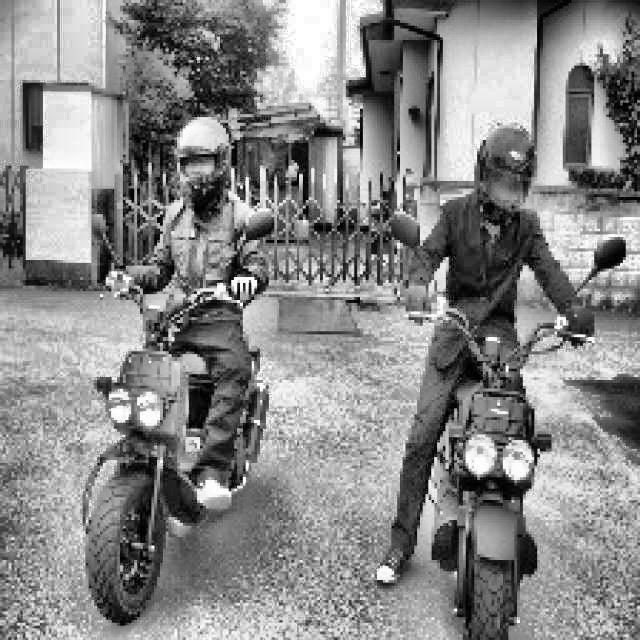motorcycle: (372, 189, 622, 640), (58, 193, 272, 620)
